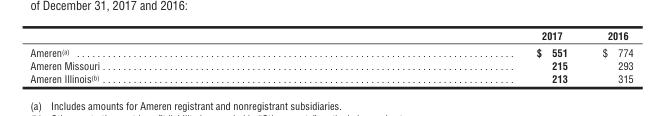table: (29, 29, 632, 84)
table column: (29, 29, 317, 84), (317, 29, 584, 84), (584, 29, 632, 84)
table column header: (29, 29, 632, 43)
table row: (29, 43, 632, 58), (29, 29, 632, 43), (29, 58, 632, 71), (29, 71, 632, 84)
